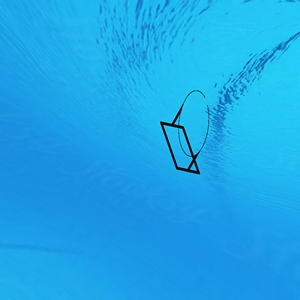circle: (160, 88, 211, 178)
